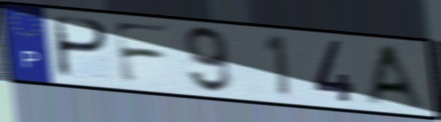1: (263, 34, 294, 101)
4: (310, 39, 357, 105)
9: (181, 24, 235, 96)
A: (362, 43, 432, 113)
F: (110, 19, 174, 86)
P: (54, 13, 112, 81)
